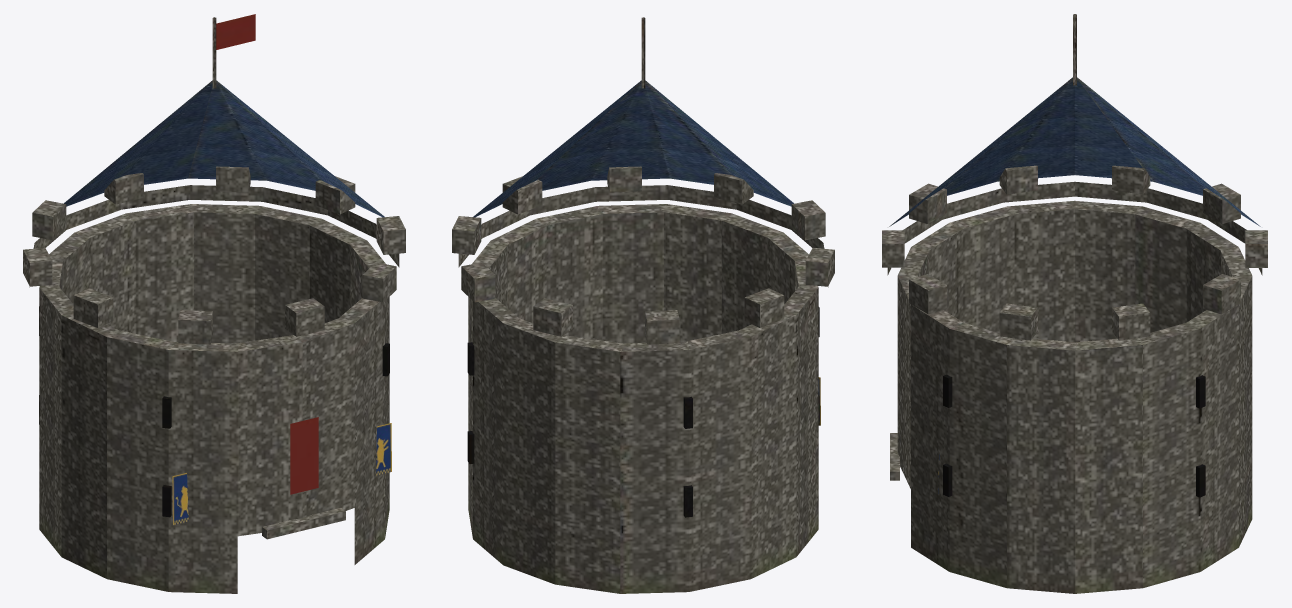
File: bld_gate_tower_card_lod2.glb
3 views of the same model, side by side, from view 1: azimuth 30°, elevation 25°; view 2: azimuth 150°, elevation 25°; view 3: azimuth 270°, elevation 25° (orthographic).
Visible parts, largest first — view 1: gate_tower_card; view 2: gate_tower_card; view 3: gate_tower_card.
Part boxes in pixels (box(x1,y1,x2,y2)): gate_tower_card: box(23, 14, 405, 593); gate_tower_card: box(452, 17, 834, 593); gate_tower_card: box(882, 14, 1267, 593).
Size of the model in its own units: 21.08 by 28.9 by 21.08.
Materials: 1 (1 with a texture image).
